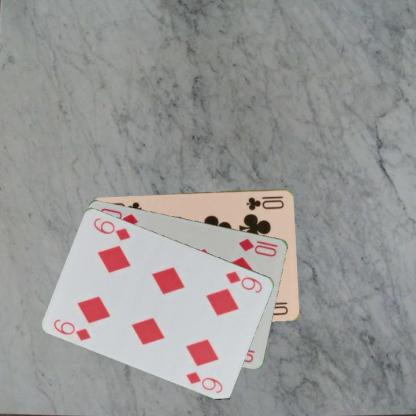10c: (244, 193, 285, 211)
10d: (236, 235, 279, 258)
6d: (223, 268, 264, 294), (51, 316, 92, 342)
